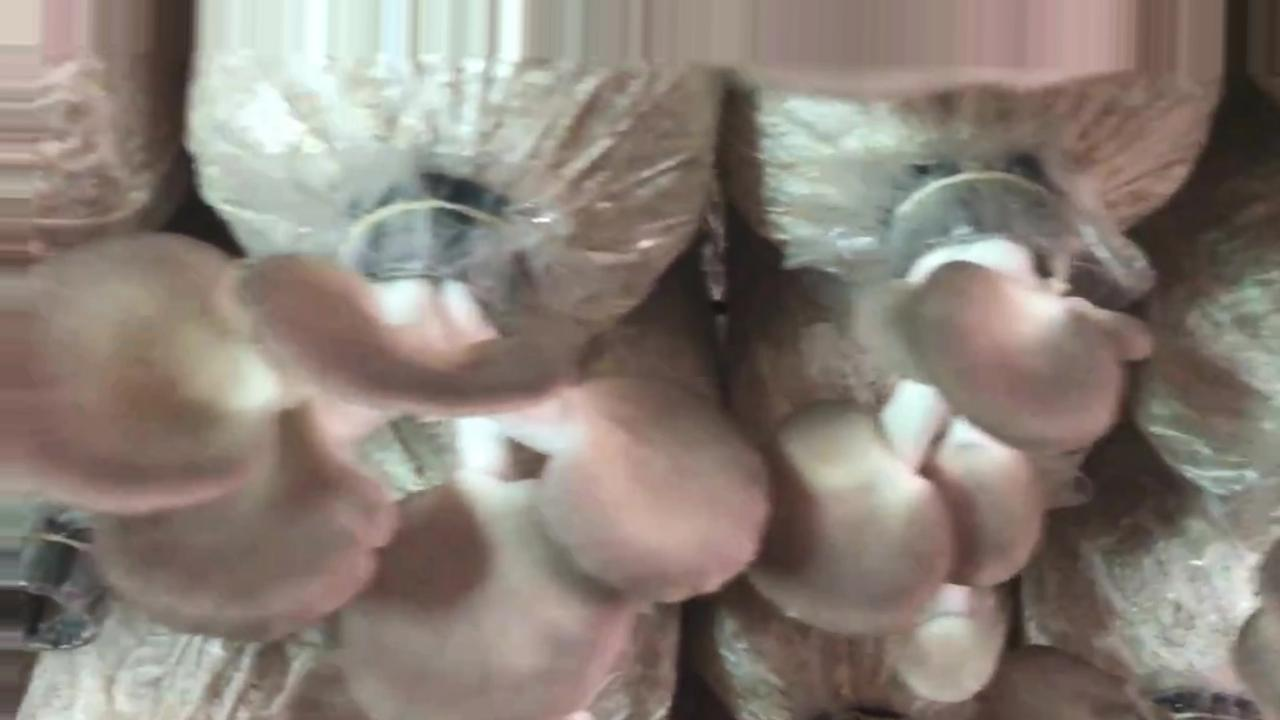nam: (2, 204, 767, 720), (748, 182, 1152, 699), (972, 648, 1139, 717)
